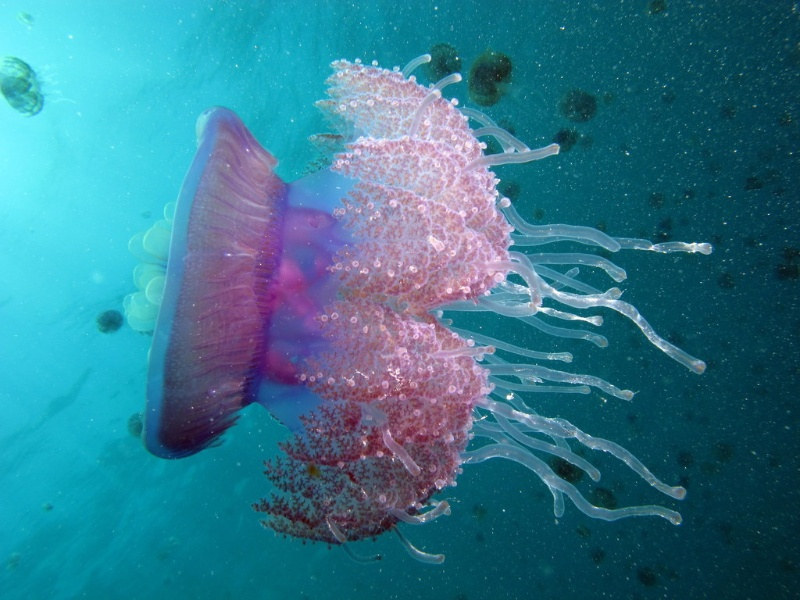Jellyfish: (123, 77, 745, 536)
